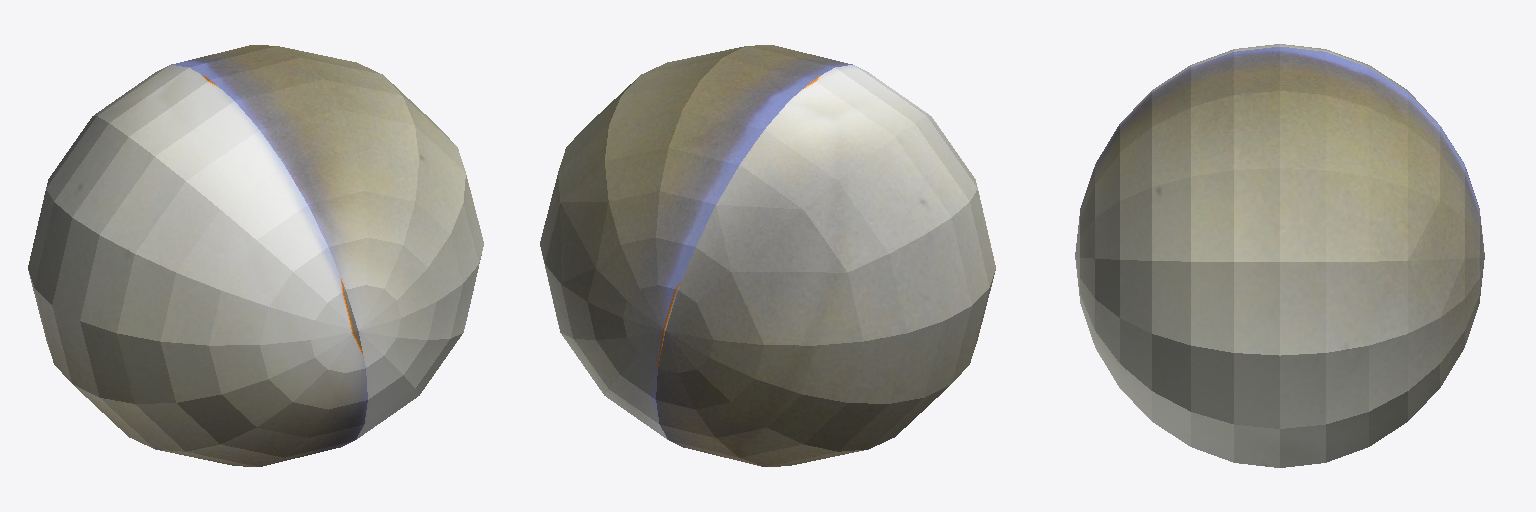
The picture shows the model from 3 angles: view 1: azimuth 30°, elevation 25°; view 2: azimuth 150°, elevation 25°; view 3: azimuth 270°, elevation 25°; orthographic projection.
Parts seen in each view (by area): view 1: emb_py_2; view 2: emb_py_2; view 3: emb_py_2.
Part boxes in pixels (x1,y1,x2,y2): emb_py_2: (28,45,483,466); emb_py_2: (540,45,995,466); emb_py_2: (1075,44,1484,467).
Bounding box in the file's own units: 2 × 1.75 × 1.74.
1 materials, 1 textured.